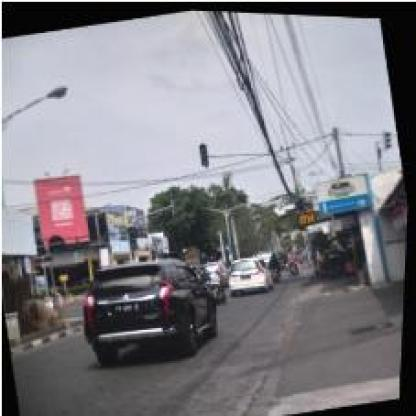green: (197, 138, 210, 162), (126, 223, 138, 247)
